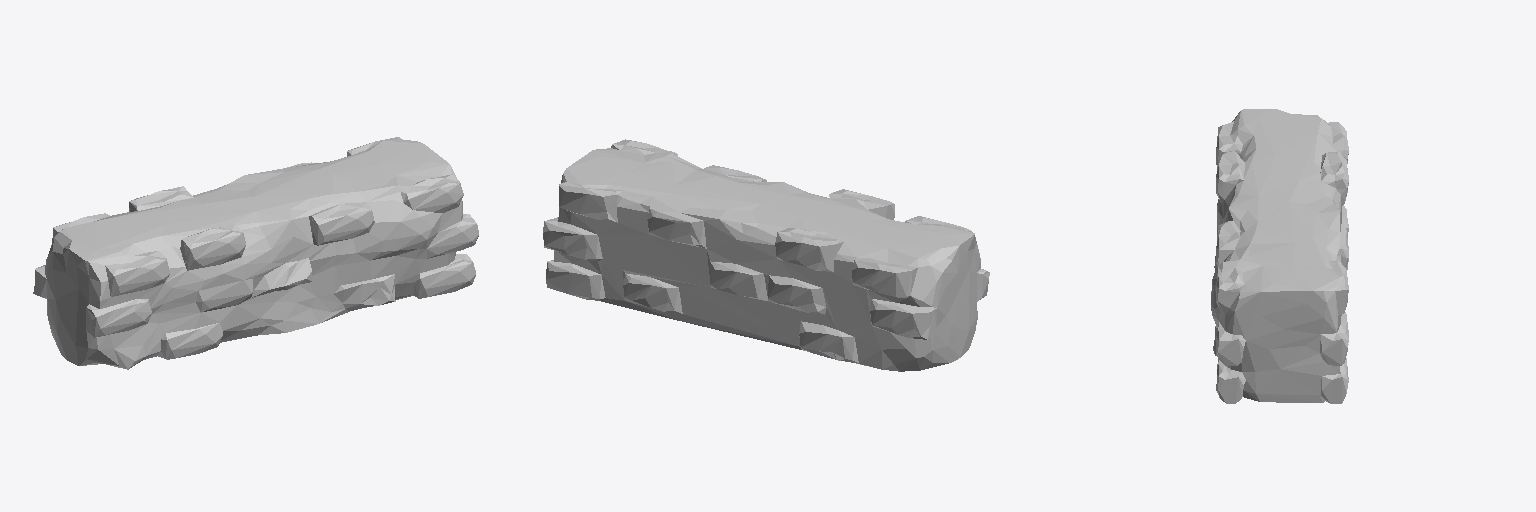
File: Great_Wall.OBJ
3 views of the same model, side by side, from view 1: azimuth 30°, elevation 25°; view 2: azimuth 150°, elevation 25°; view 3: azimuth 270°, elevation 25° (orthographic).
Visible parts, largest first — view 1: Group6113; view 2: Group6113; view 3: Group6113.
Boxes of the visible parts, <box> form: Group6113: <box>33,137,478,369</box>; Group6113: <box>543,139,989,371</box>; Group6113: <box>1211,109,1348,403</box>.
Size of the model in its own units: 23.61 by 6.84 by 7.35.